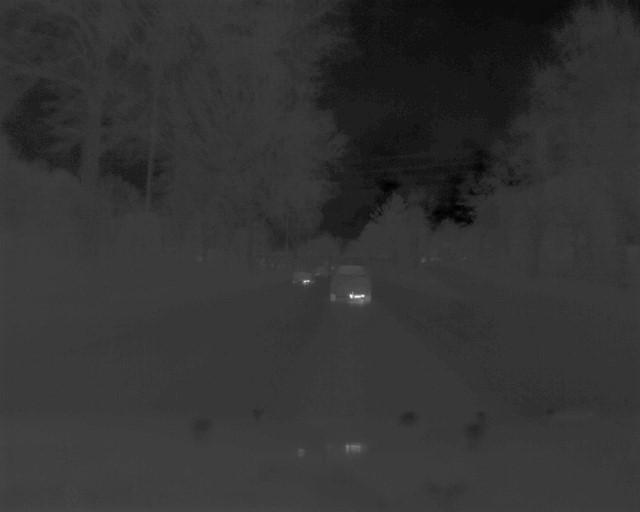car: (328, 262, 378, 305)
